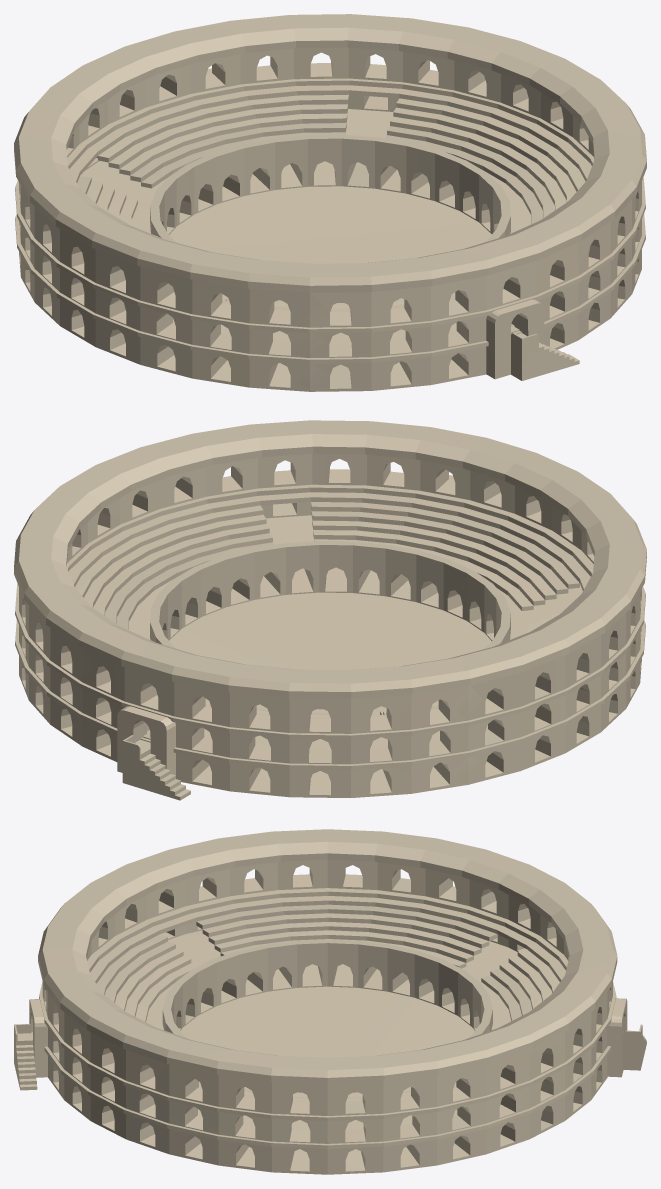
Rendered from bank.glb.
3 renders of one model, top to bottom at view 1: azimuth 30°, elevation 25°; view 2: azimuth 150°, elevation 25°; view 3: azimuth 270°, elevation 25°, orthographic. The views are drawn at different scales.
Visible parts, largest first — view 1: Coliseum; view 2: Coliseum; view 3: Coliseum.
Part boxes in pixels (x1,y1,x2,y2): Coliseum: (14, 14, 646, 391); Coliseum: (14, 420, 646, 800); Coliseum: (14, 829, 646, 1174).
Size of the model in its own units: 3.47 by 0.6924 by 3.79.
Materials: 1 (1 with a texture image).
